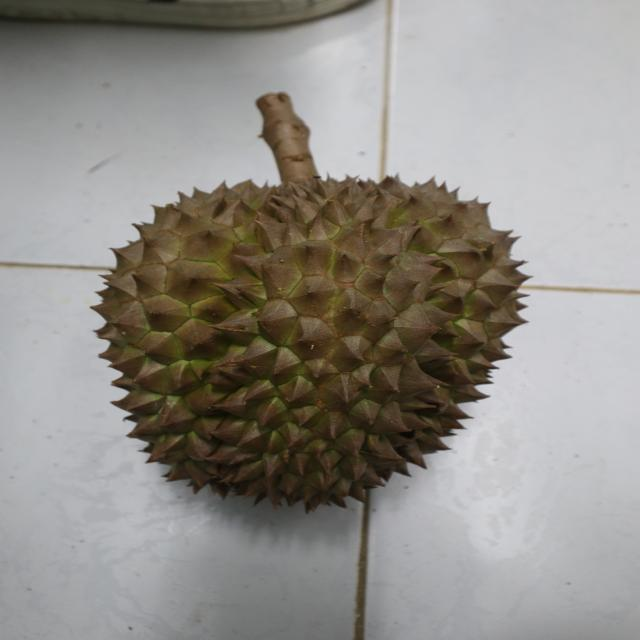mature: (91, 172, 536, 511)
